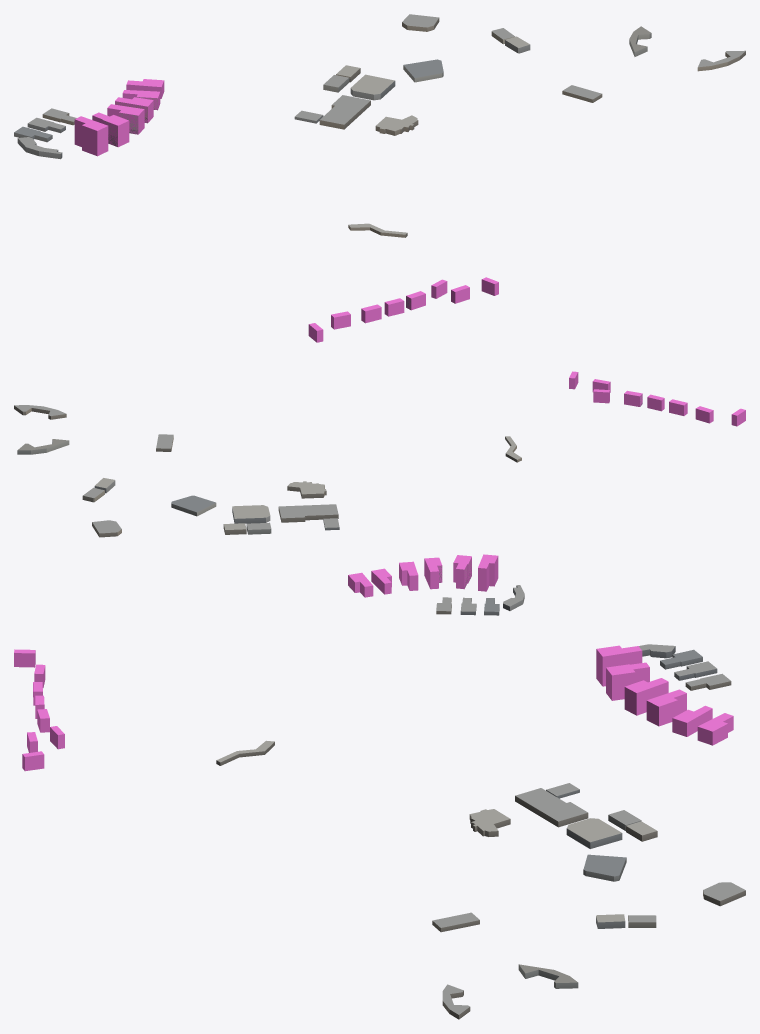
The model's file is bld_13_6.fbx.
3 views of the same model, one above another, from view 1: azimuth 30°, elevation 25°; view 2: azimuth 150°, elevation 25°; view 3: azimuth 270°, elevation 25° (orthographic). The views are drawn at different scales.
Parts seen in each view (by area): view 1: bld_13_6_LOD0, bld_13_6_COL; view 2: bld_13_6_LOD0, bld_13_6_COL; view 3: bld_13_6_LOD0, bld_13_6_COL.
Part boxes in pixels (x1,y1,x2,y2): bld_13_6_LOD0: (14, 14, 745, 308); bld_13_6_COL: (74, 79, 498, 342); bld_13_6_LOD0: (14, 394, 642, 615); bld_13_6_COL: (348, 371, 745, 597); bld_13_6_LOD0: (216, 644, 745, 1019); bld_13_6_COL: (14, 645, 733, 771).
Size of what is drawn, in the model's own units: 1884 by 71.21 by 1578.
